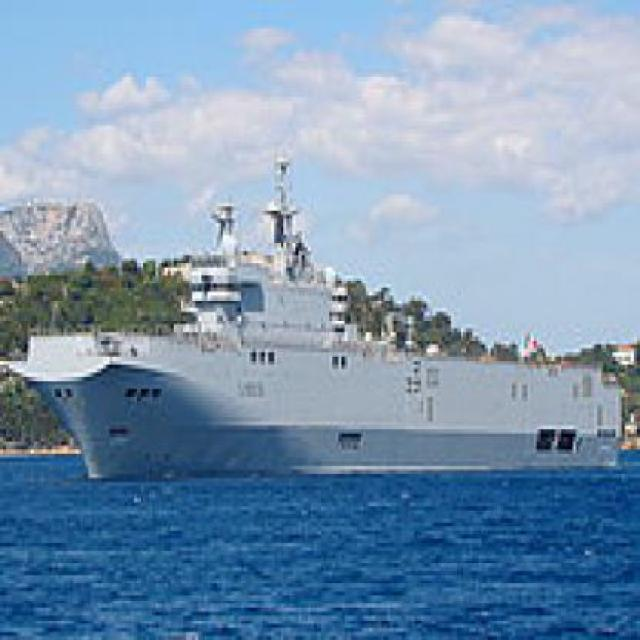warship2: (16, 126, 635, 499)
